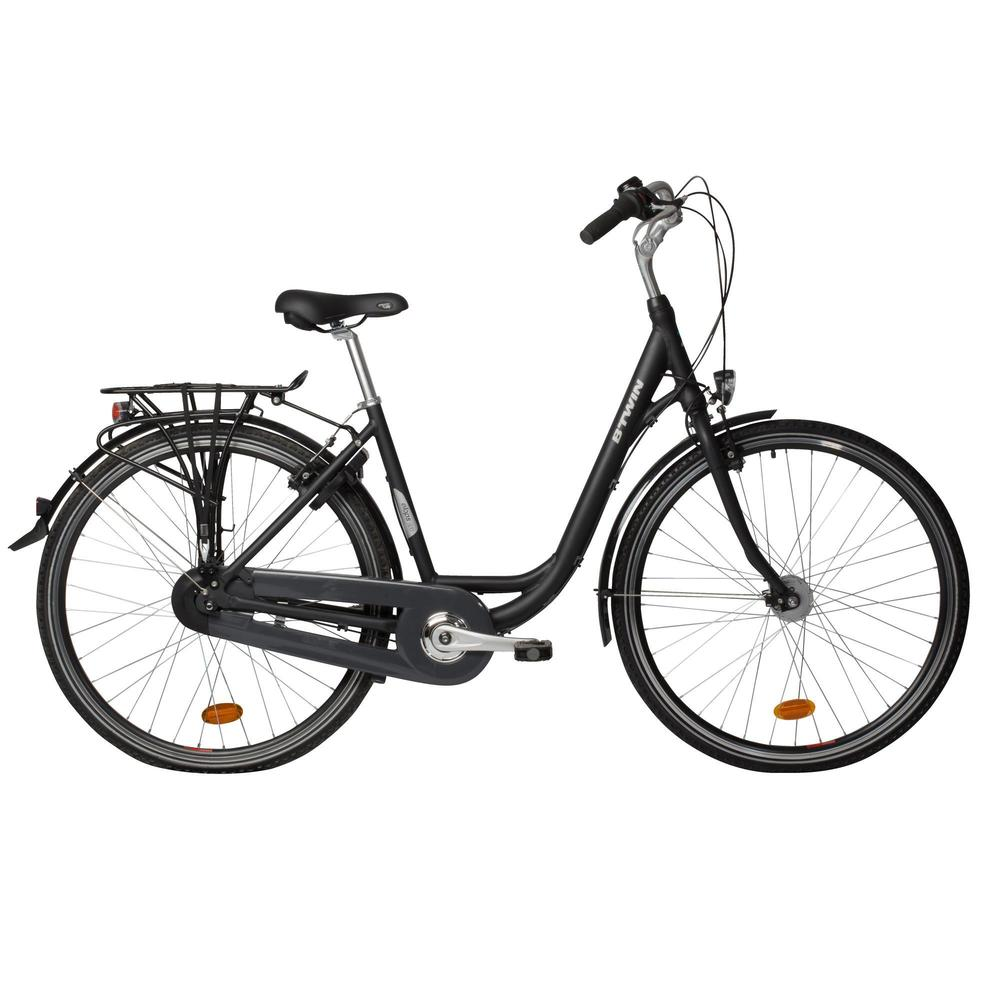UrbanBike: (33, 175, 976, 769)
